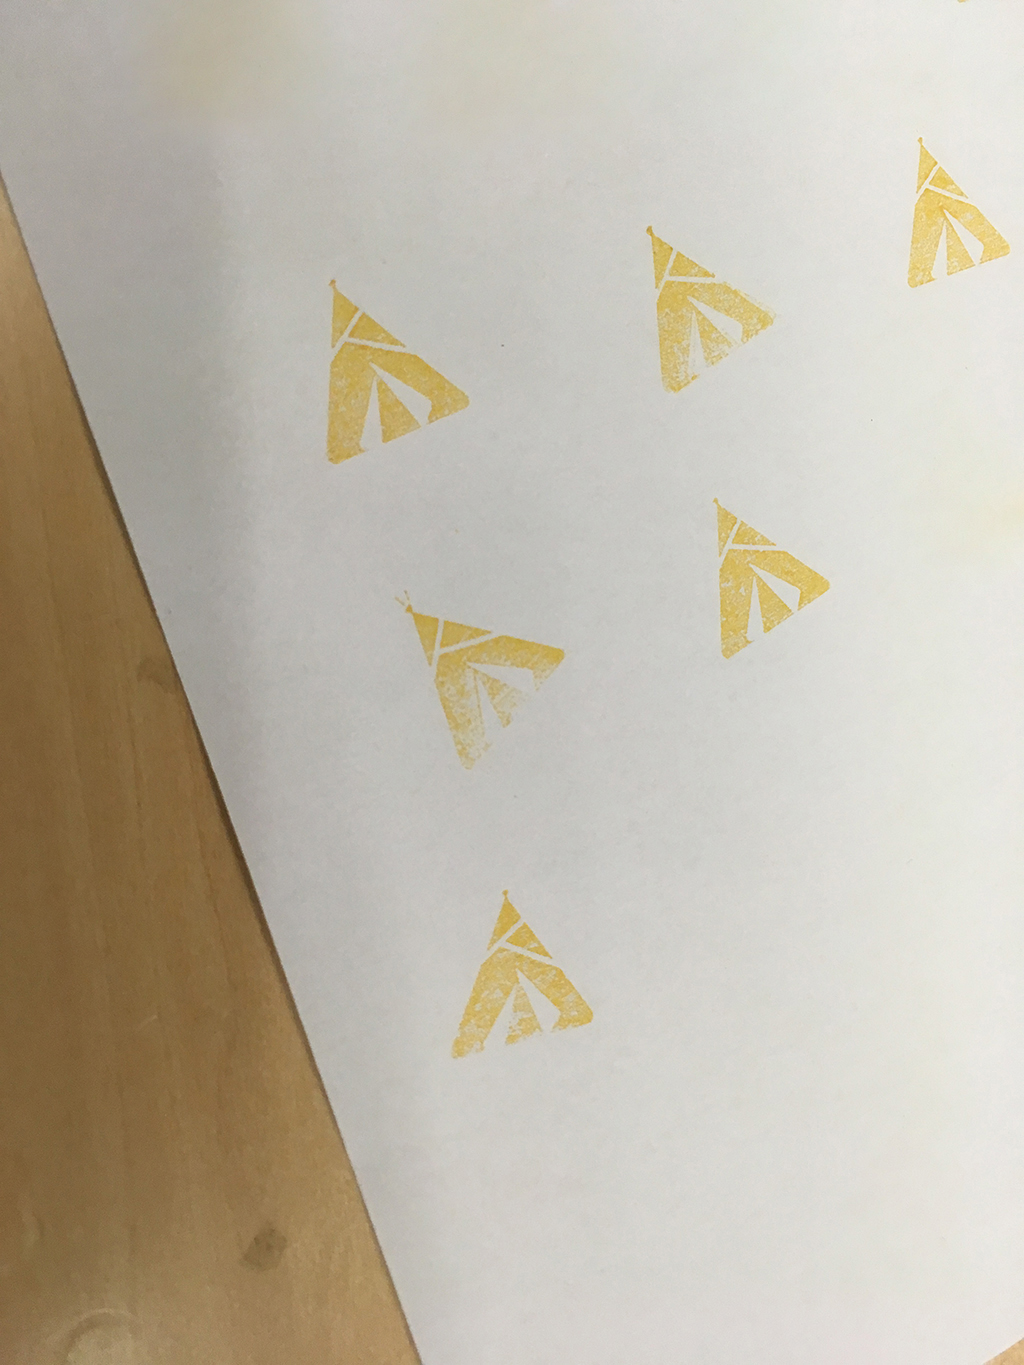tent: (308, 273, 482, 474), (386, 588, 577, 771), (447, 886, 605, 1066), (641, 219, 786, 409), (702, 489, 837, 666), (900, 136, 1021, 293)
